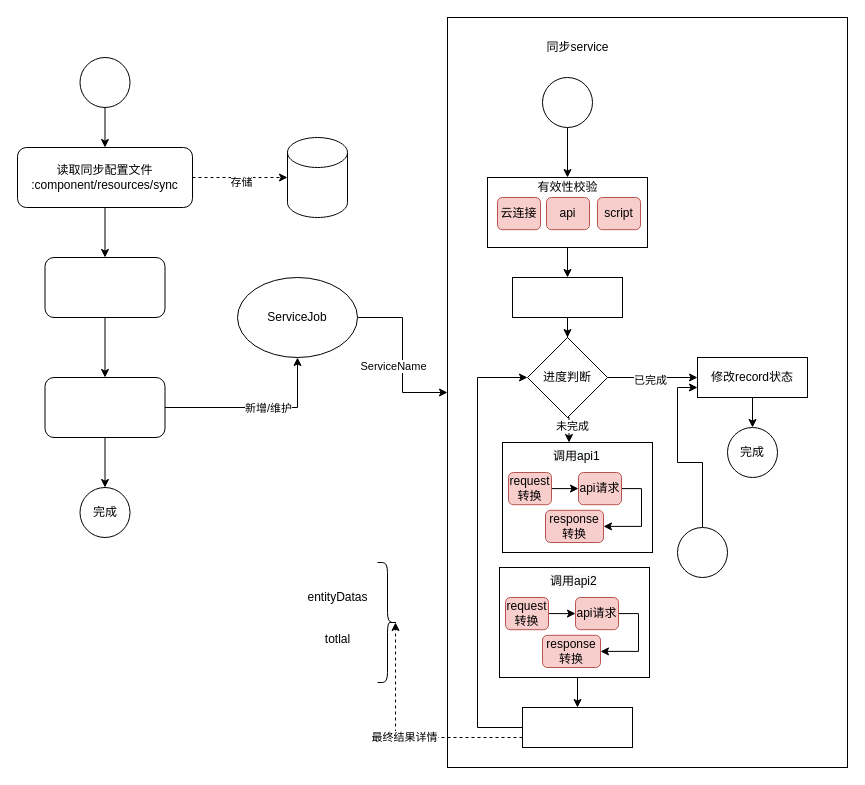
Some shapes in this 865 by 785 pixel diagram are drawn without their labels. Each missing label, with the box of its shape:
创建record记录: (512, 276, 622, 318)
加载实体初始化数据: (44, 256, 165, 318)
启动: (79, 56, 130, 108)
增加定时执行任务: (44, 376, 165, 438)
开始: (542, 76, 592, 128)
暂停: (676, 526, 728, 578)
组装最终结果集: (522, 706, 632, 748)
配置缓存: (286, 136, 348, 218)
